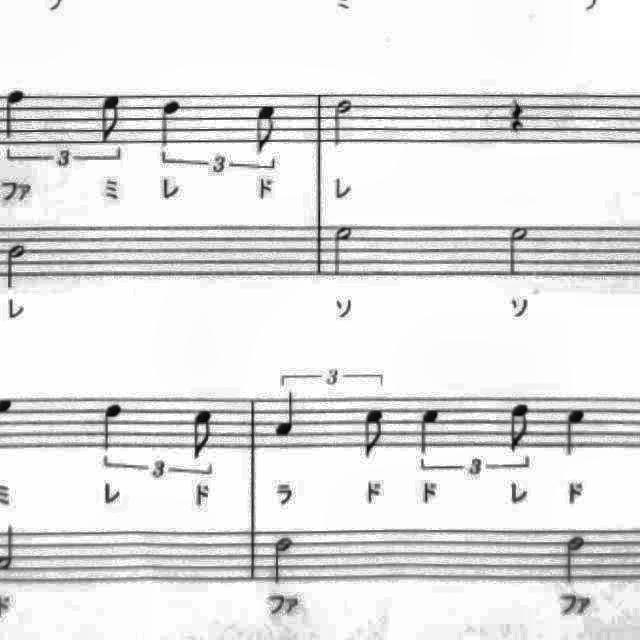Eighth-note: (185, 403, 222, 465), (354, 404, 390, 466), (504, 398, 540, 458), (248, 100, 284, 160), (95, 88, 129, 146)
Half-note: (502, 219, 538, 281), (266, 530, 302, 590), (557, 530, 591, 590), (328, 220, 360, 282), (328, 92, 359, 152), (1, 238, 32, 294)
Quarter-note: (557, 399, 593, 461), (411, 401, 447, 459), (96, 396, 130, 456), (153, 96, 189, 152), (0, 82, 30, 142), (270, 390, 302, 442)
Quarter-rest: (501, 94, 531, 140)
